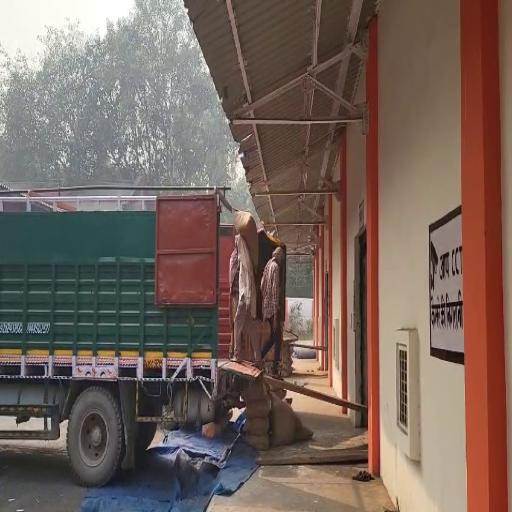bag: (232, 206, 264, 268)
